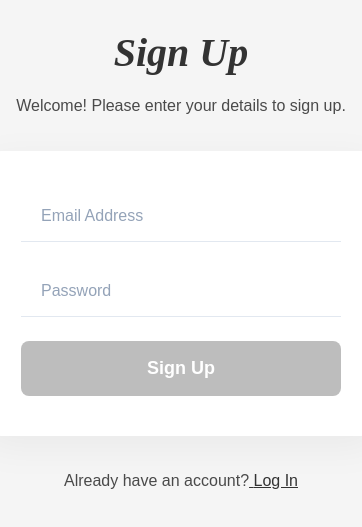
Test: Register › shows the firebase error message when registration fails
Type "new@example.com" into the field labelled "Email Address" at (181, 216), box x1=21 y1=190 x2=341 y2=242
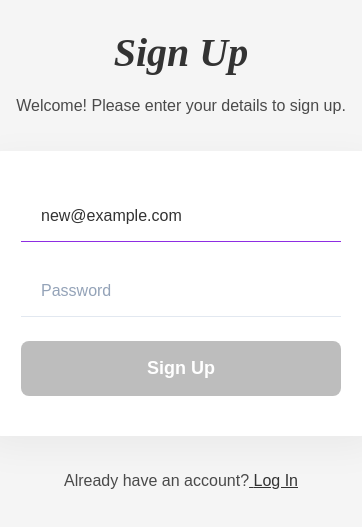
Type "secret1" into the password field labelled "Password" at (181, 291), box x1=21 y1=266 x2=341 y2=316
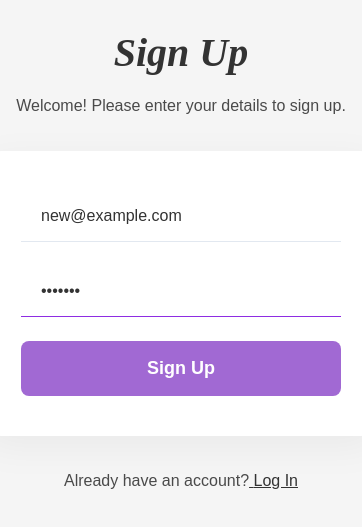
Click the button "Sign Up" at (181, 368), box x1=21 y1=340 x2=341 y2=396
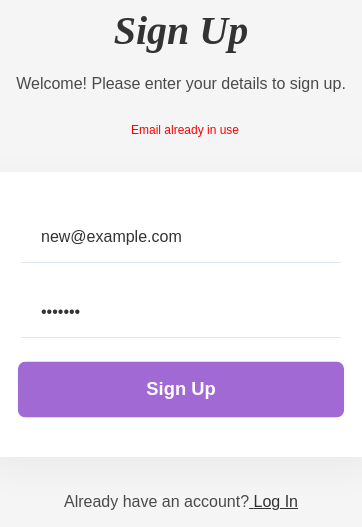
Result: the text "Email already in use" is shown at x1=131 y1=123 x2=239 y2=137
